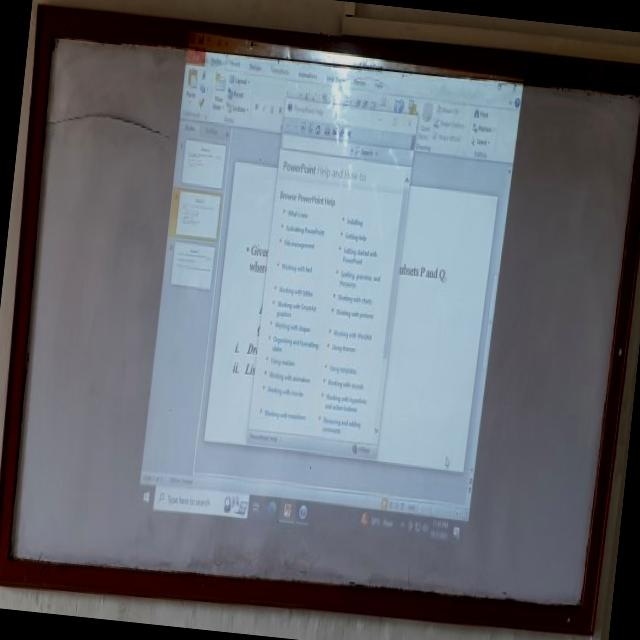Slide: (134, 26, 525, 548)
White-board: (0, 19, 640, 621)
